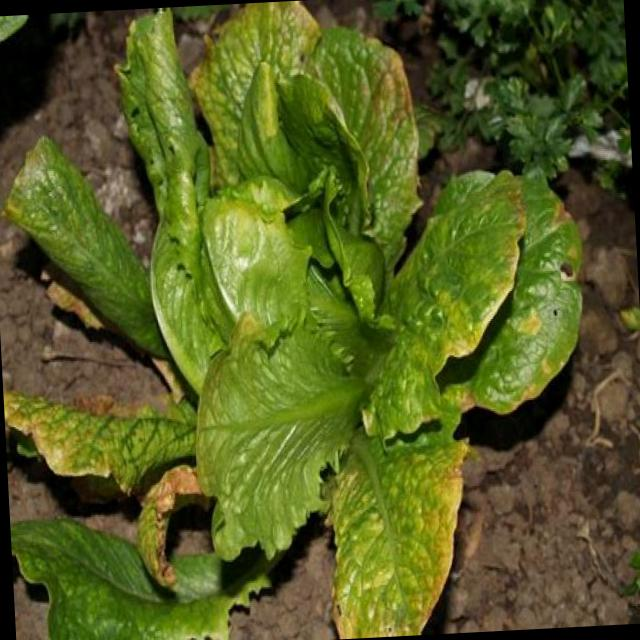Lettuce Mosaic Virus: (184, 54, 436, 493)
